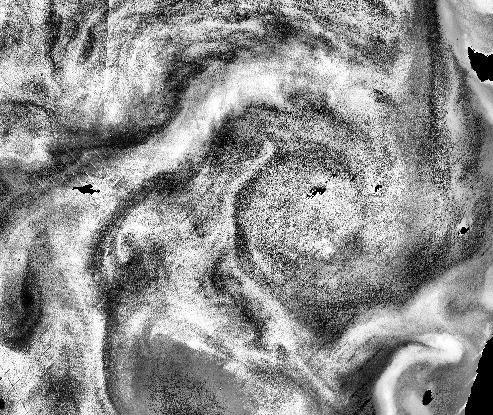AE: (198, 88, 437, 336)
